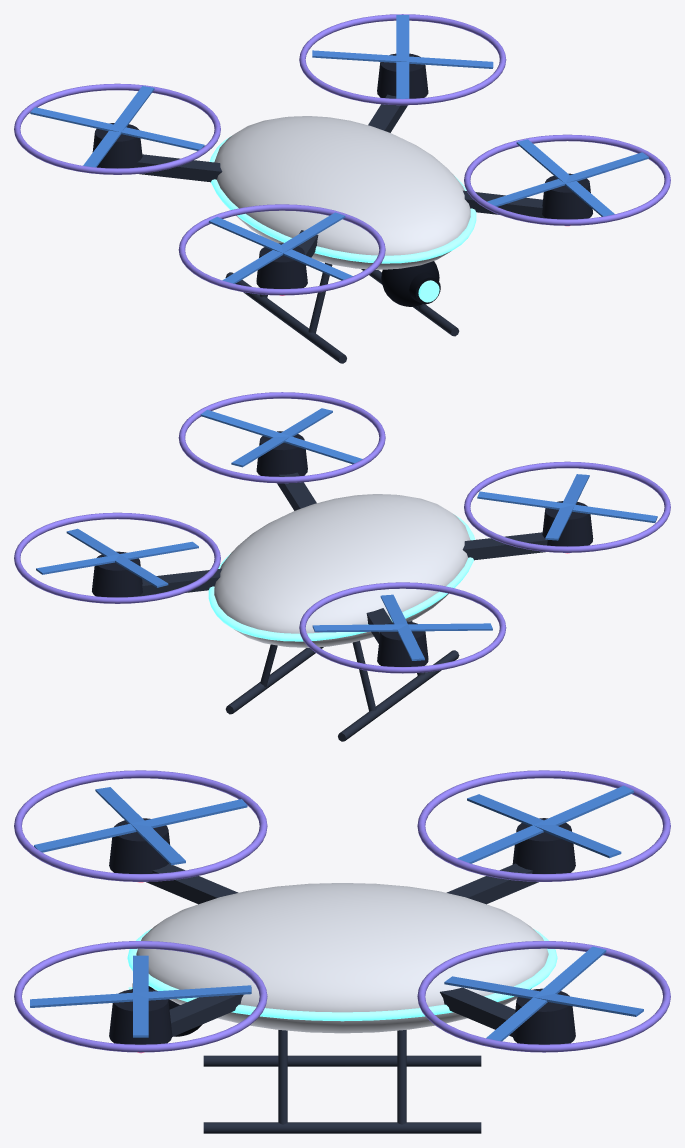
File: drone-falcao.glb
3 views of the same model, one above another, from view 1: azimuth 30°, elevation 25°; view 2: azimuth 150°, elevation 25°; view 3: azimuth 270°, elevation 25° (orthographic). The views are drawn at different scales.
Parts seen in each view (by area): view 1: Corpo, Protetores, Hélices, Motores, Braços, Trem de pouso, Faixa, Câmera; view 2: Corpo, Protetores, Hélices, Motores, Braços, Trem de pouso, Faixa; view 3: Corpo, Protetores, Hélices, Motores, Trem de pouso, Braços, Faixa.
Part boxes in pixels (x1,y1,x2,y2): Corpo: (214, 116, 470, 269); Protetores: (14, 14, 670, 295); Hélices: (30, 15, 648, 283); Motores: (92, 53, 592, 288); Braços: (137, 94, 544, 265); Trem de pouso: (225, 262, 459, 363); Faixa: (209, 136, 476, 263); Câmera: (381, 261, 440, 306); Corpo: (214, 494, 470, 647); Protetores: (14, 392, 670, 673); Hélices: (36, 408, 657, 660); Motores: (92, 431, 593, 666); Braços: (140, 472, 547, 643); Trem de pouso: (225, 621, 459, 741); Faixa: (208, 514, 475, 641); Corpo: (136, 883, 548, 1033); Protetores: (14, 770, 670, 1052); Hélices: (30, 785, 643, 1041); Motores: (109, 818, 575, 1044); Trem de pouso: (203, 1030, 481, 1133); Braços: (146, 863, 538, 1036); Faixa: (127, 928, 557, 1021).
Size of the model in its own units: 1.66 by 0.5475 by 1.66.
